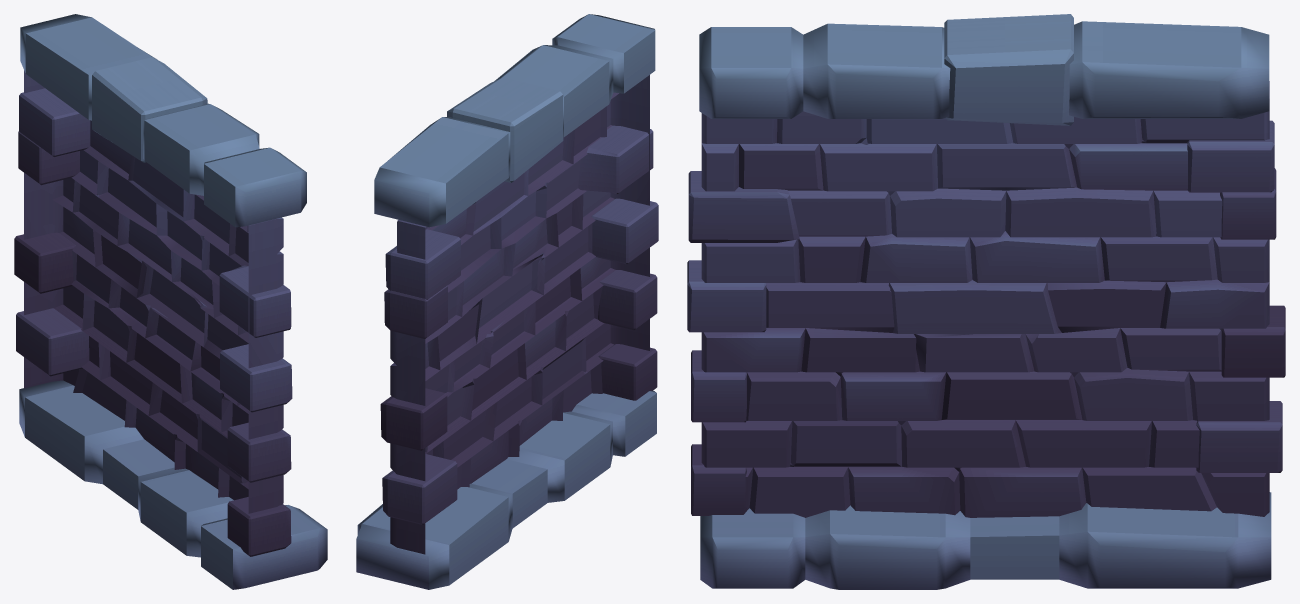
The model's file is WallChunk2.fbx.
3 views of the same model, side by side, from view 1: azimuth 30°, elevation 25°; view 2: azimuth 150°, elevation 25°; view 3: azimuth 270°, elevation 25° (orthographic). The views are drawn at different scales.
Parts seen in each view (by area): view 1: pCube399; view 2: pCube399; view 3: pCube399.
Part boxes in pixels (x1,y1,x2,y2): pCube399: (14, 14, 327, 589); pCube399: (356, 14, 658, 589); pCube399: (687, 14, 1285, 589).
Bounding box in the file's own units: 1.37 × 5.59 × 5.79.
